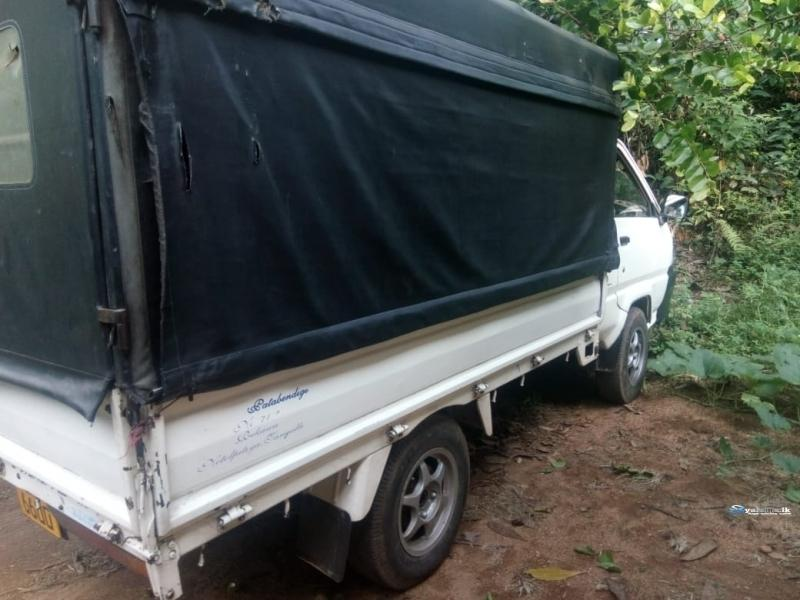truck: (1, 1, 689, 600)
